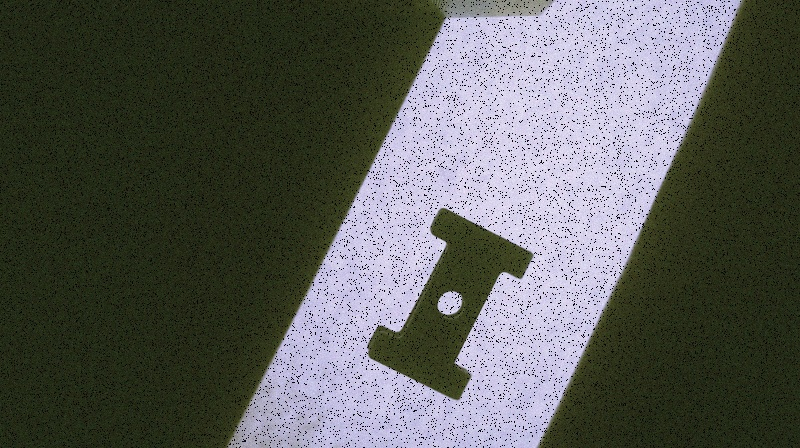O002: (365, 205, 537, 401)
